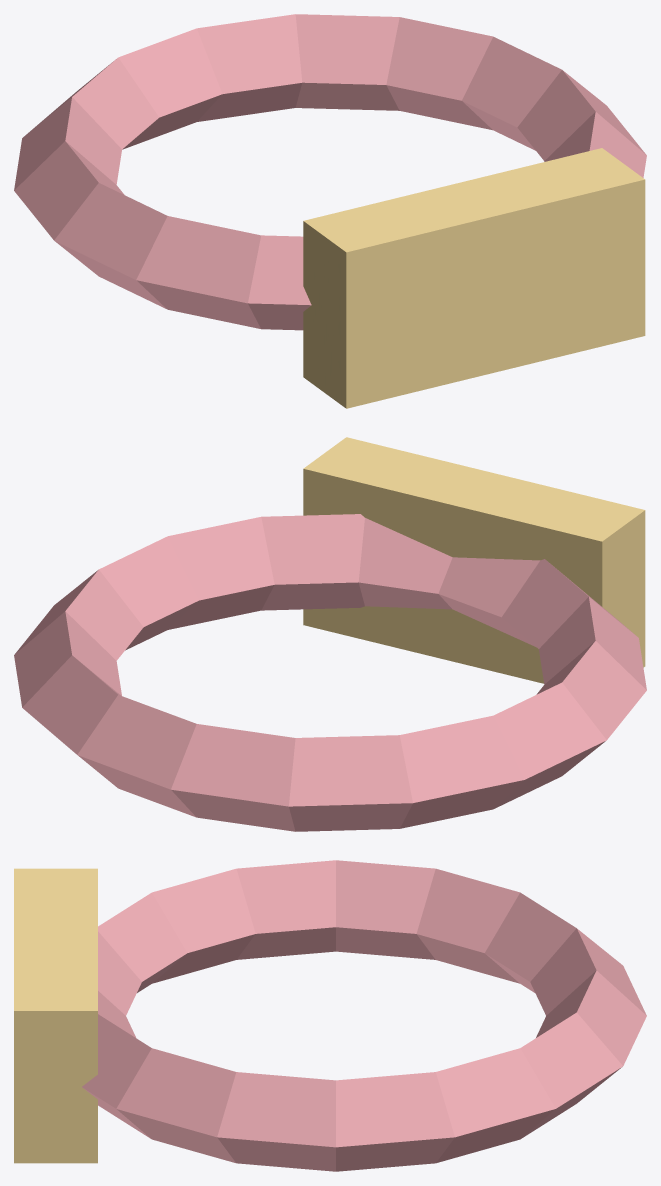
File: wristband_festival.glb
3 renders of one model, top to bottom at view 1: azimuth 30°, elevation 25°; view 2: azimuth 150°, elevation 25°; view 3: azimuth 270°, elevation 25°, orthographic. The views are drawn at different scales.
Visible parts, largest first — view 1: band, ticket; view 2: band, ticket; view 3: band, ticket.
Part boxes in pixels (<box>): band: <box>14,14,646,330</box>; ticket: <box>303,148,645,408</box>; band: <box>14,514,646,831</box>; ticket: <box>303,437,645,683</box>; band: <box>82,860,646,1171</box>; ticket: <box>14,868,97,1163</box>.
Bounding box in the file's own units: 0.222 × 0.06 × 0.226.
